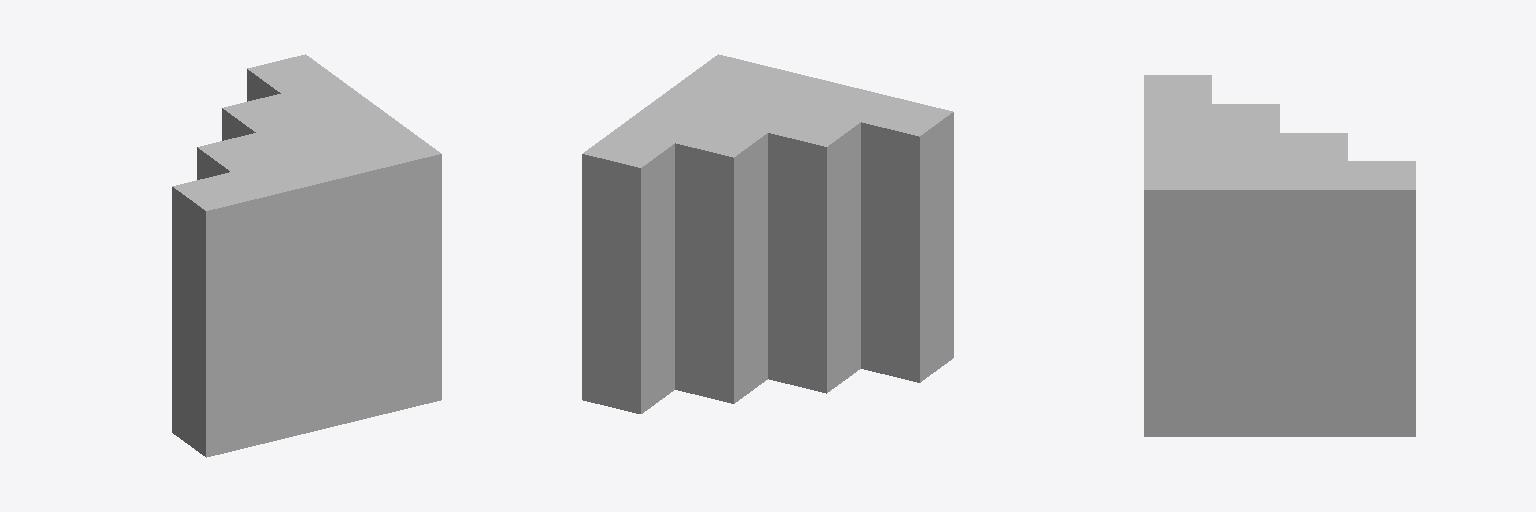
File: Stairs.obj
3 views of the same model, side by side, from view 1: azimuth 30°, elevation 25°; view 2: azimuth 150°, elevation 25°; view 3: azimuth 270°, elevation 25° (orthographic).
Visible parts, largest first — view 1: Cube; view 2: Cube; view 3: Cube.
Part boxes in pixels (x1,y1,x2,y2): Cube: (172, 54, 441, 457); Cube: (582, 54, 953, 413); Cube: (1144, 75, 1415, 436).
Size of the model in its own units: 1 by 1 by 1.